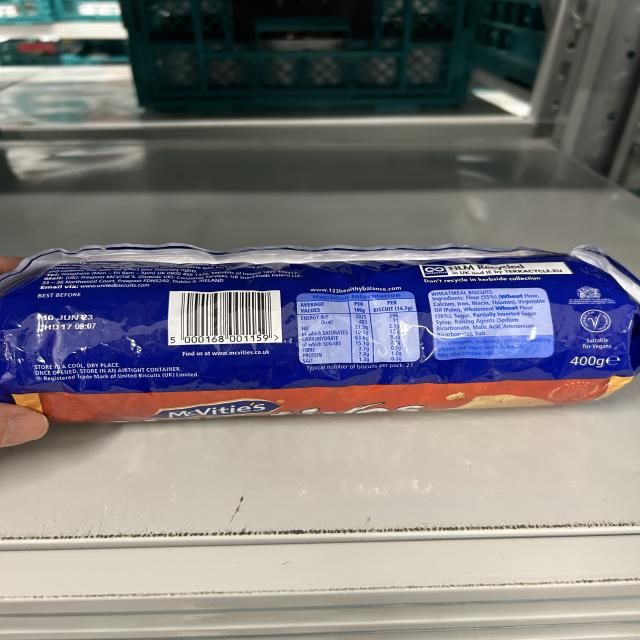object_name: (26, 254, 640, 409)
